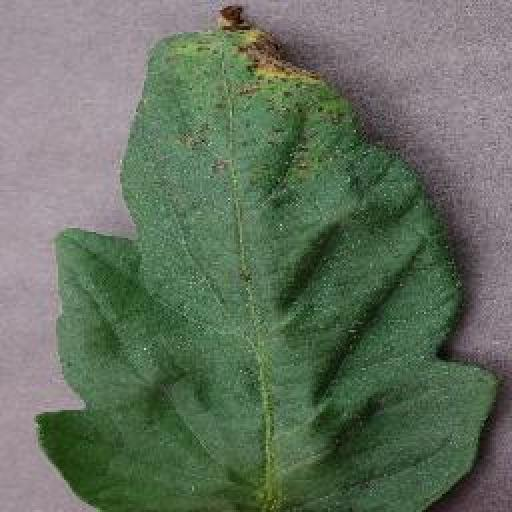Bacterial Spot: (24, 2, 502, 512)
